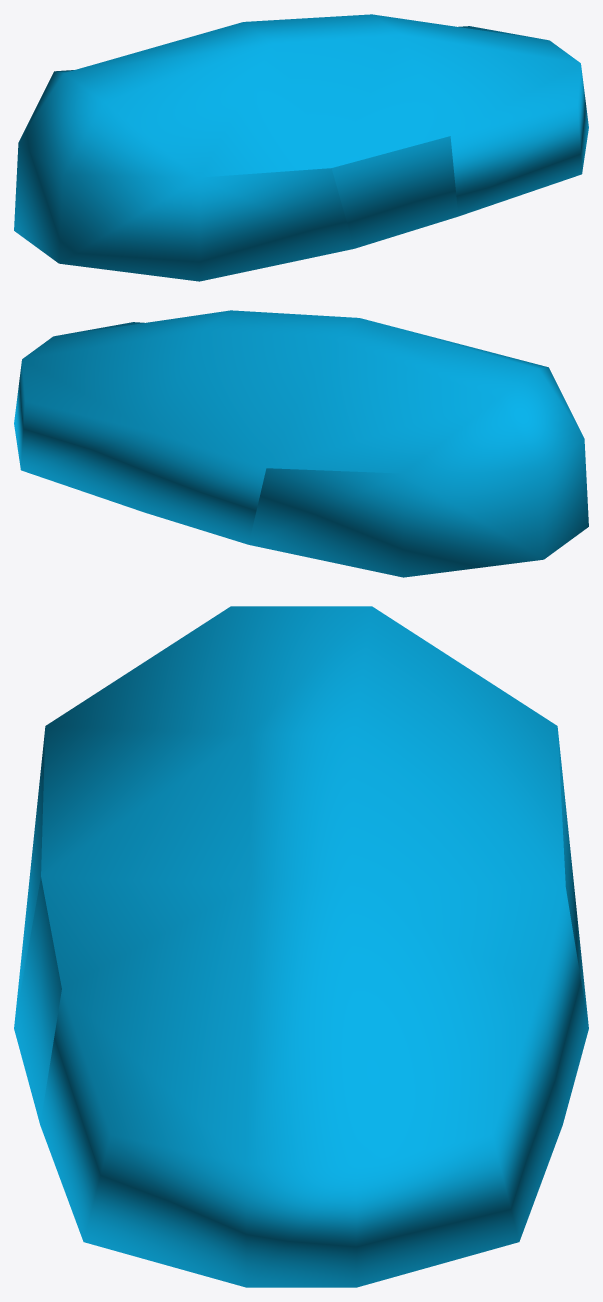
File: Mouse_Lod1.fbx
The picture shows the model from 3 angles, top to bottom: view 1: azimuth 30°, elevation 25°; view 2: azimuth 150°, elevation 25°; view 3: azimuth 270°, elevation 25°; orthographic projection. The views are drawn at different scales.
Parts seen in each view (by area): view 1: Mouse_Lod1; view 2: Mouse_Lod1; view 3: Mouse_Lod1.
Boxes of the visible parts, x1=… form: Mouse_Lod1: x1=14, y1=14, x2=588, y2=281; Mouse_Lod1: x1=14, y1=310, x2=588, y2=577; Mouse_Lod1: x1=14, y1=606, x2=588, y2=1287.
Size of the model in its own units: 18.42 by 5.25 by 9.69.
